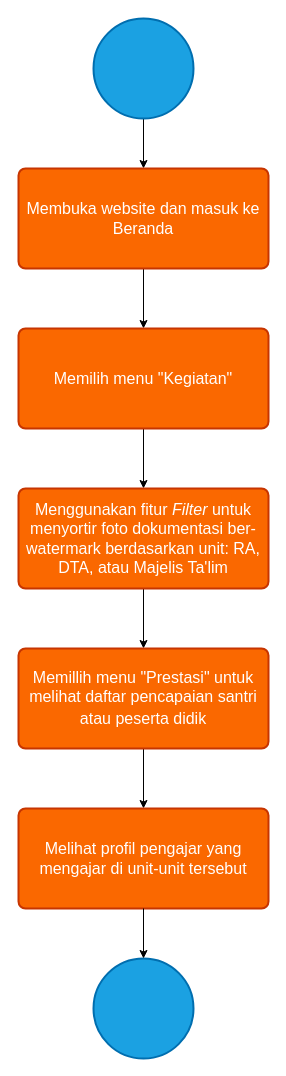
Image size: 286x1076. Some labels were removed from this diagram. Each missing label, with the centre of its shape:
"Mulai" goes at (143,68).
"Selesai" goes at (143,1008).
